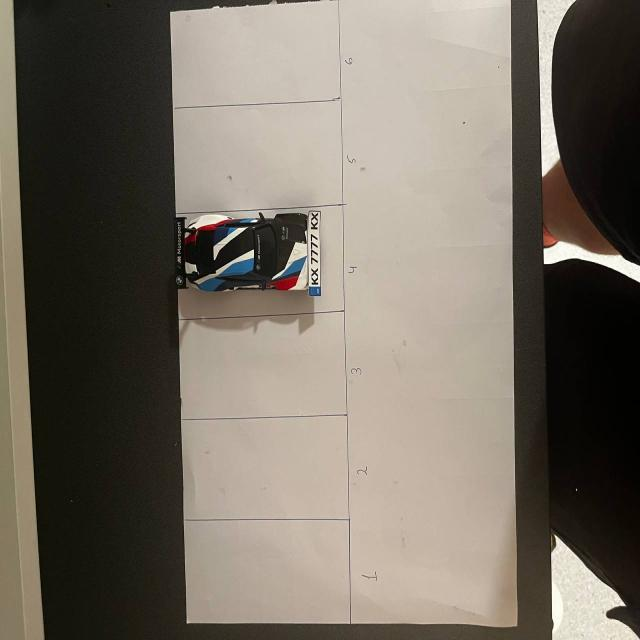KX 7777 KX: (307, 207, 324, 298)
